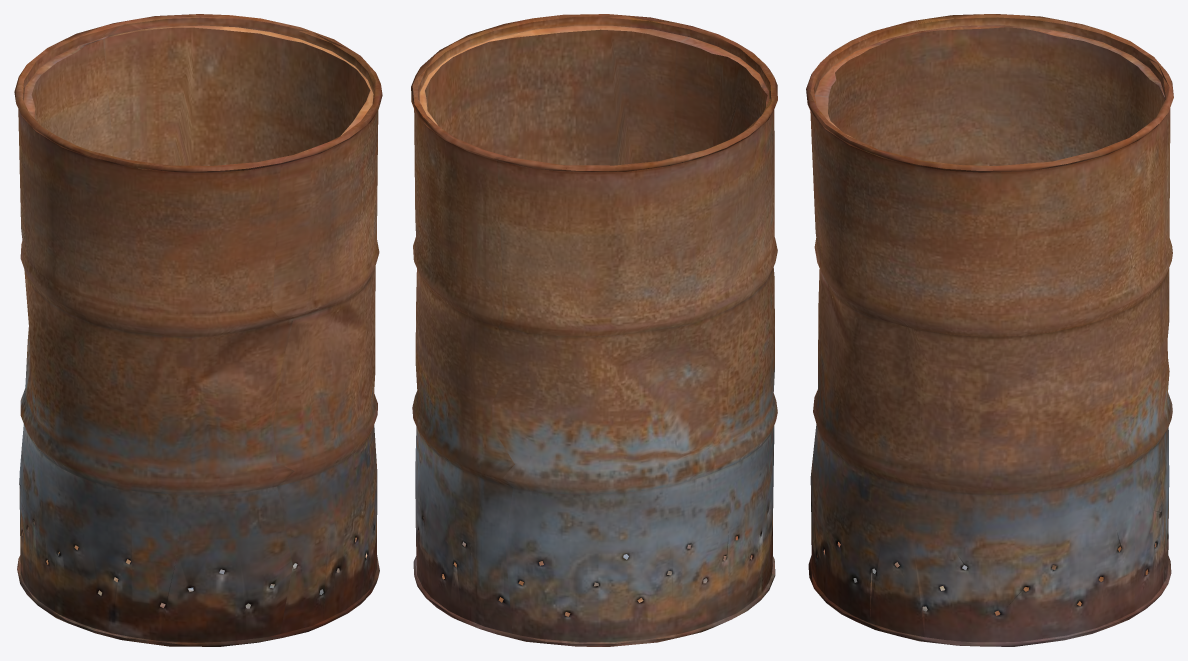
Rendered from barrel_stove.glb.
3 views of the same model, side by side, from view 1: azimuth 30°, elevation 25°; view 2: azimuth 150°, elevation 25°; view 3: azimuth 270°, elevation 25° (orthographic).
Parts seen in each view (by area): view 1: barrel_stove; view 2: barrel_stove; view 3: barrel_stove.
Part boxes in pixels (x1=…): barrel_stove: x1=14, y1=14, x2=382, y2=646; barrel_stove: x1=411, y1=14, x2=777, y2=646; barrel_stove: x1=806, y1=14, x2=1173, y2=646.
Bounding box in the file's own units: 0.5929 × 0.8567 × 0.5929.
Materials: 1 (1 with a texture image).
